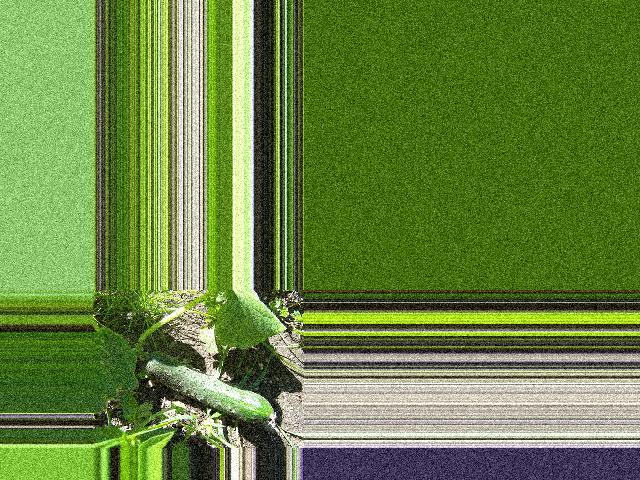cucumber: (143, 350, 275, 423)
